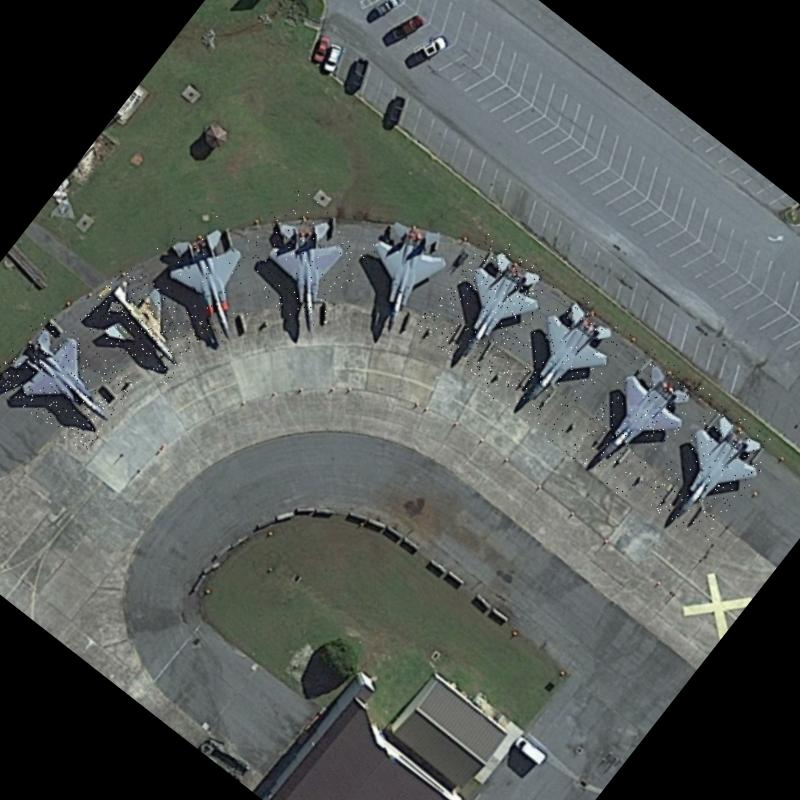A13: (480, 284, 635, 447), (224, 182, 380, 338), (560, 342, 710, 502), (413, 230, 561, 384), (134, 198, 285, 346), (640, 398, 780, 547), (326, 197, 466, 342), (0, 309, 138, 455)
A5: (77, 260, 210, 388)
